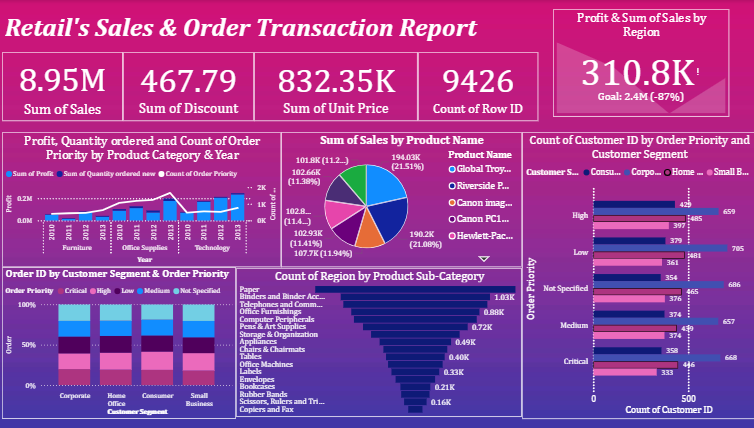

The page's visual inventory and layout, read from the dashboard file:
{"tool":"powerbi","page":{"name":"Page 1","canvas":[1280,720],"ordinal":0},"visuals":[{"type":"textbox","box":[0,33.6,1280,84],"z":0},{"type":"textbox","box":[0,228.5,203.3,151.2],"z":1000},{"type":"card","fields":{"Values":["CountNonNull(Orders.Order ID)"]},"box":[0,557.3,293.8,162.7],"z":2000},{"type":"card","fields":{"Values":["Sum(Orders.Profit)"]},"box":[964.8,257.8,315.4,136.8],"z":3000},{"type":"card","fields":{"Values":["Sum(Orders.Discount)"]},"box":[0,380.2,293.8,177.1],"z":4000},{"type":"card","fields":{"Values":["Sum(Orders.Sales)"]},"box":[0,220.1,294,166.3],"z":5000},{"type":"card","fields":{"Values":["Sum(Orders.Unit Price)"]},"box":[964.8,542.9,315.4,177.1],"z":6000},{"type":"card","fields":{"Values":["Sum(Orders.Quantity ordered new)"]},"box":[964.8,116.6,315.4,141.1],"z":7000},{"type":"card","fields":{"Values":["Sum(Orders.Product Base Margin)"]},"box":[964.8,394.6,315.4,148.3],"z":8000},{"type":"textbox","box":[43.2,133.9,177.1,67.7],"z":9000},{"type":"barChart","fields":{"Y":["CountNonNull(Orders.Customer ID)"],"Category":["Orders.Customer Segment"]},"box":[293.8,116.6,671,603.4],"z":10000}]}

Visuals, with their boxes in screenshot pixels (x1, y1, x2, y2), scaled from the page's 1280x720 canvas onto the 754x428 screenshot:
textbox: region(0, 20, 753, 70)
textbox: region(0, 136, 120, 226)
card - CountNonNull(Orders.Order ID): region(0, 331, 173, 427)
card - Sum(Orders.Profit): region(568, 153, 753, 235)
card - Sum(Orders.Discount): region(0, 226, 173, 331)
card - Sum(Orders.Sales): region(0, 131, 173, 230)
card - Sum(Orders.Unit Price): region(568, 323, 753, 427)
card - Sum(Orders.Quantity ordered new): region(568, 69, 753, 153)
card - Sum(Orders.Product Base Margin): region(568, 235, 753, 323)
textbox: region(25, 80, 130, 120)
barChart - CountNonNull(Orders.Customer ID) x Orders.Customer Segment: region(173, 69, 568, 427)
